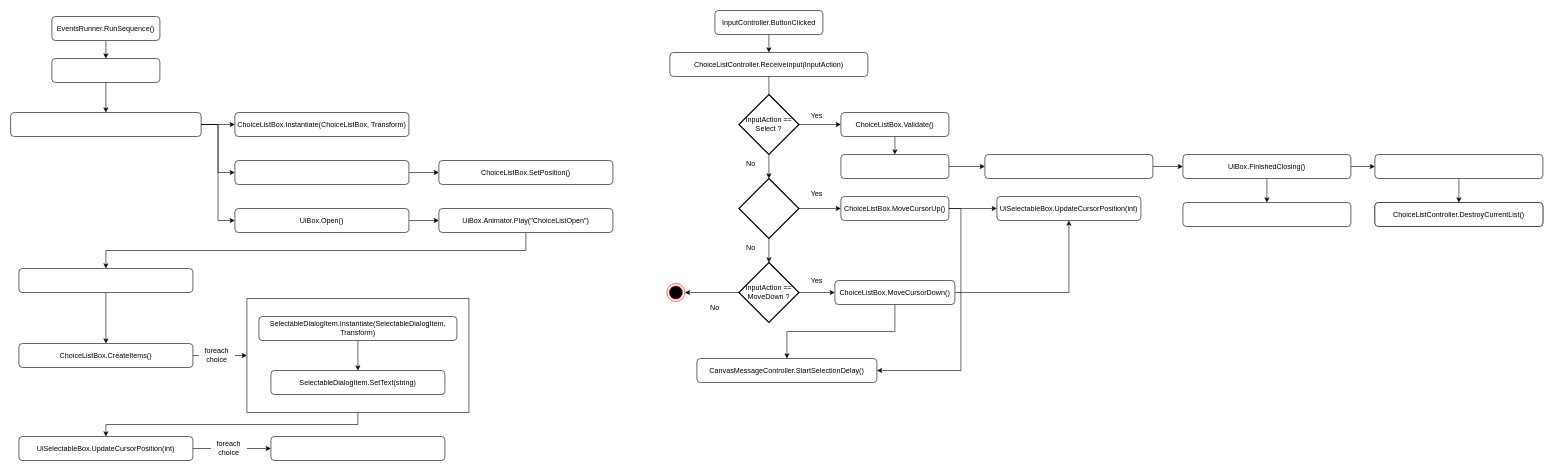
The diagram is 1553 pixels wide and 471 high, and some of its shapes have lost their labels. Each missing label, with the centre of its shape:
ChoiceListBox.Close(): point (894, 166)
ChoiceListBox.Feed(DisplayChoistList): point (321, 172)
ChoiceListBox.FinishedOpening(): point (105, 280)
ChoiceListController.CreateChoiceList(DisplayChoiceList): point (105, 124)
DisplayChoiceList.Finished.Invoke(): point (1266, 214)
DisplayChoiceList.Run(): point (105, 70)
InputAction == MoveUp ?: point (768, 208)
SelectableChoice.ShowCursor(bool): point (357, 448)
UiBox.Animator.Play("ChoiceListClose"): point (1068, 166)
UiBox.HasClosed.Invoke(): point (1458, 166)
